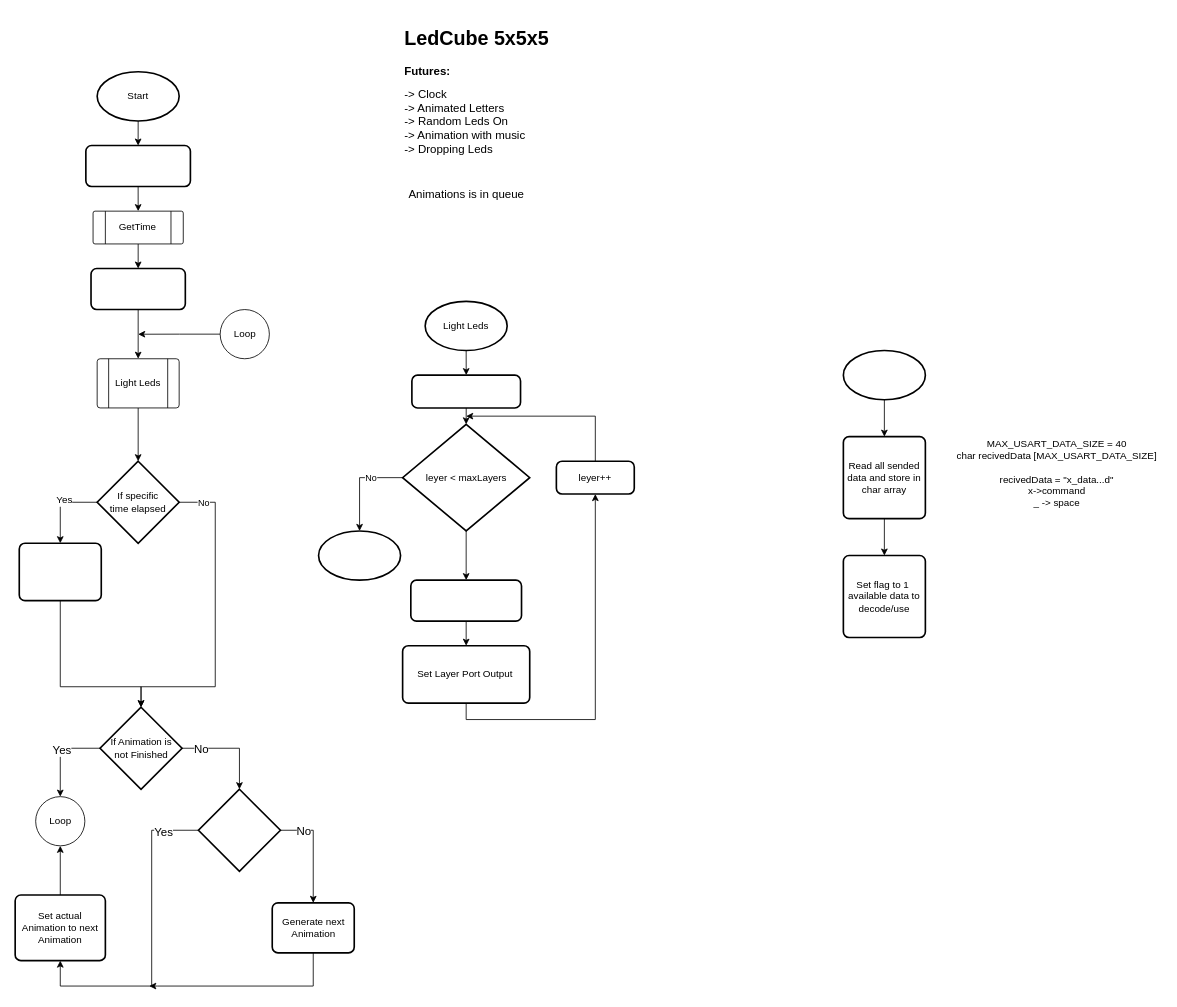
The diagram is 1177 pixels wide and 1007 high, and some of its shapes have lost their labels. The shapes that lost their labels are listed below. From the top down, each one's centre as x and y in pixels, then its label:
[138,165]: Initialize pins, timers
[138,288]: Animation Text: "Welcome"
[466,391]: uint8_t leyer = 0
[884,374]: Interrupt Read USART
[60,571]: Process Animation
[359,555]: return
[466,600]: Set Ports Output for layer
[239,830]: If is next Animation
